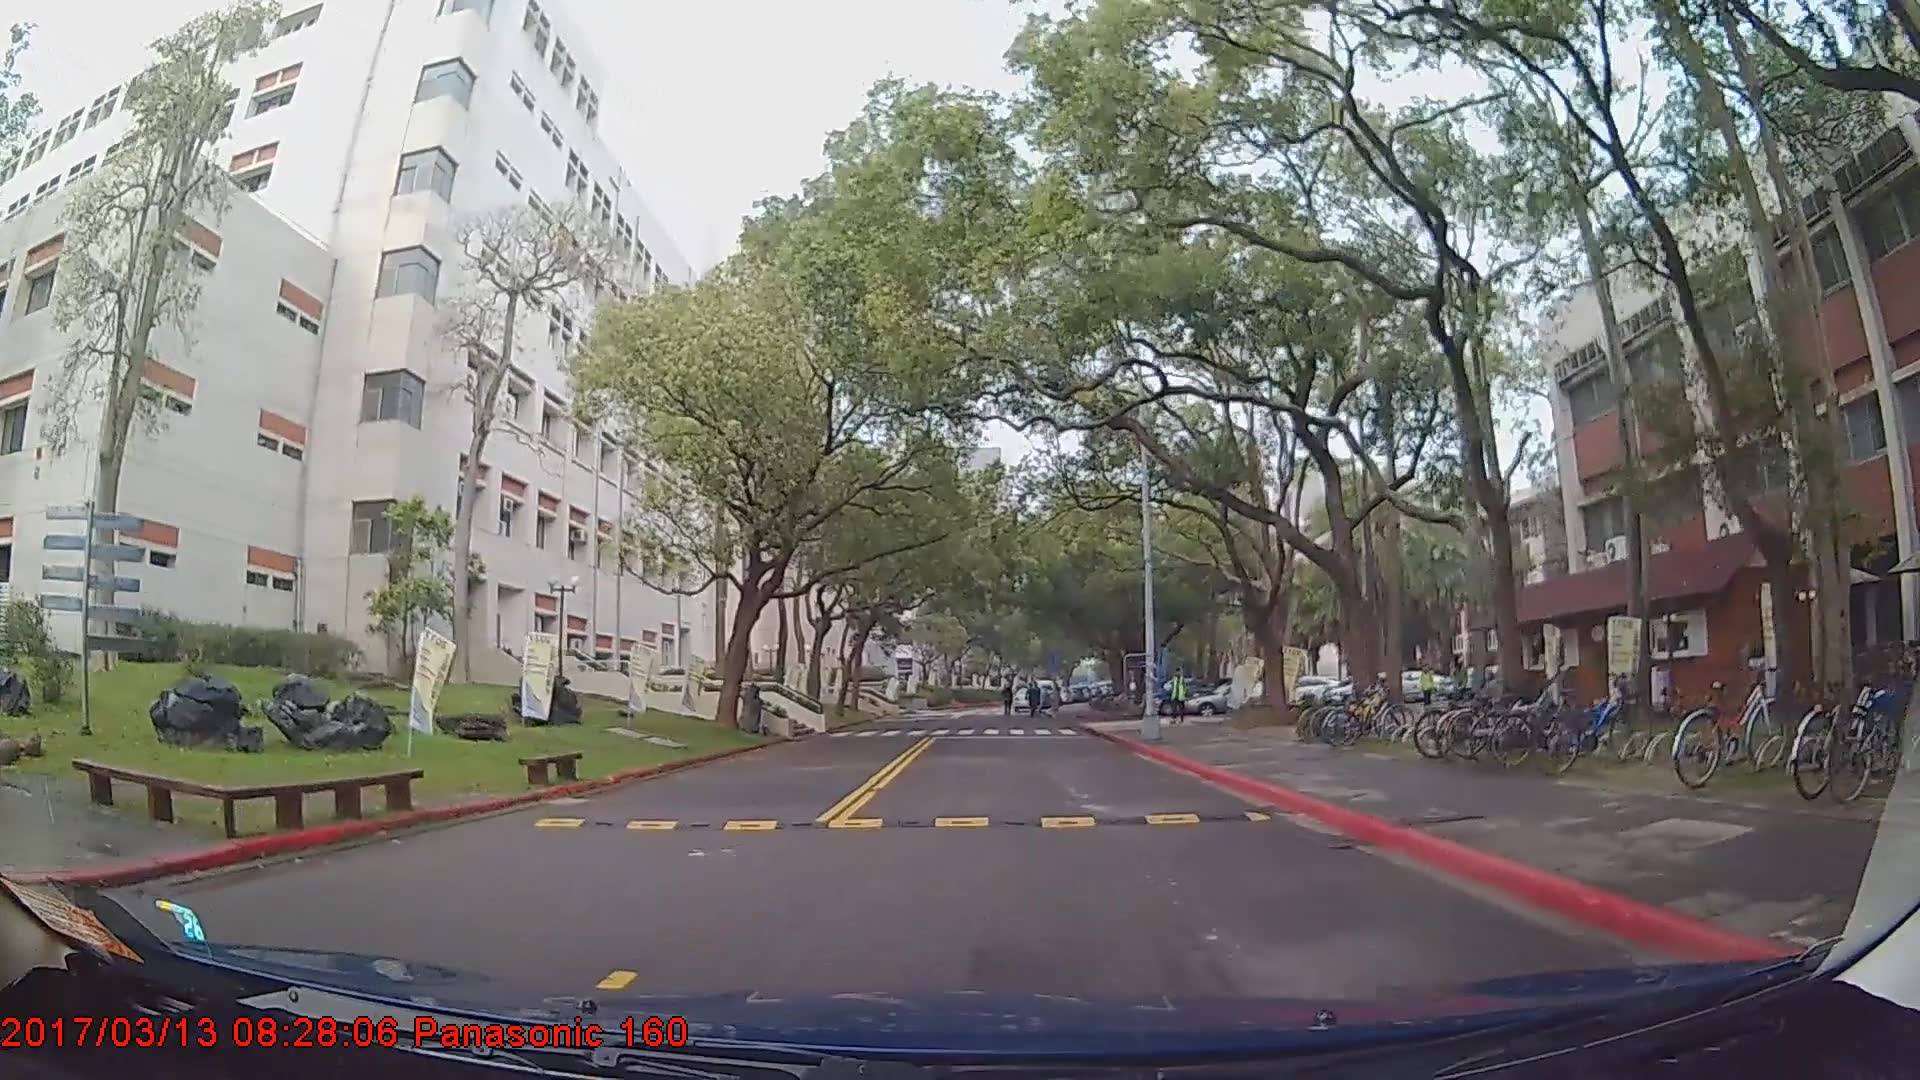vehicle: (1182, 680, 1276, 719)
